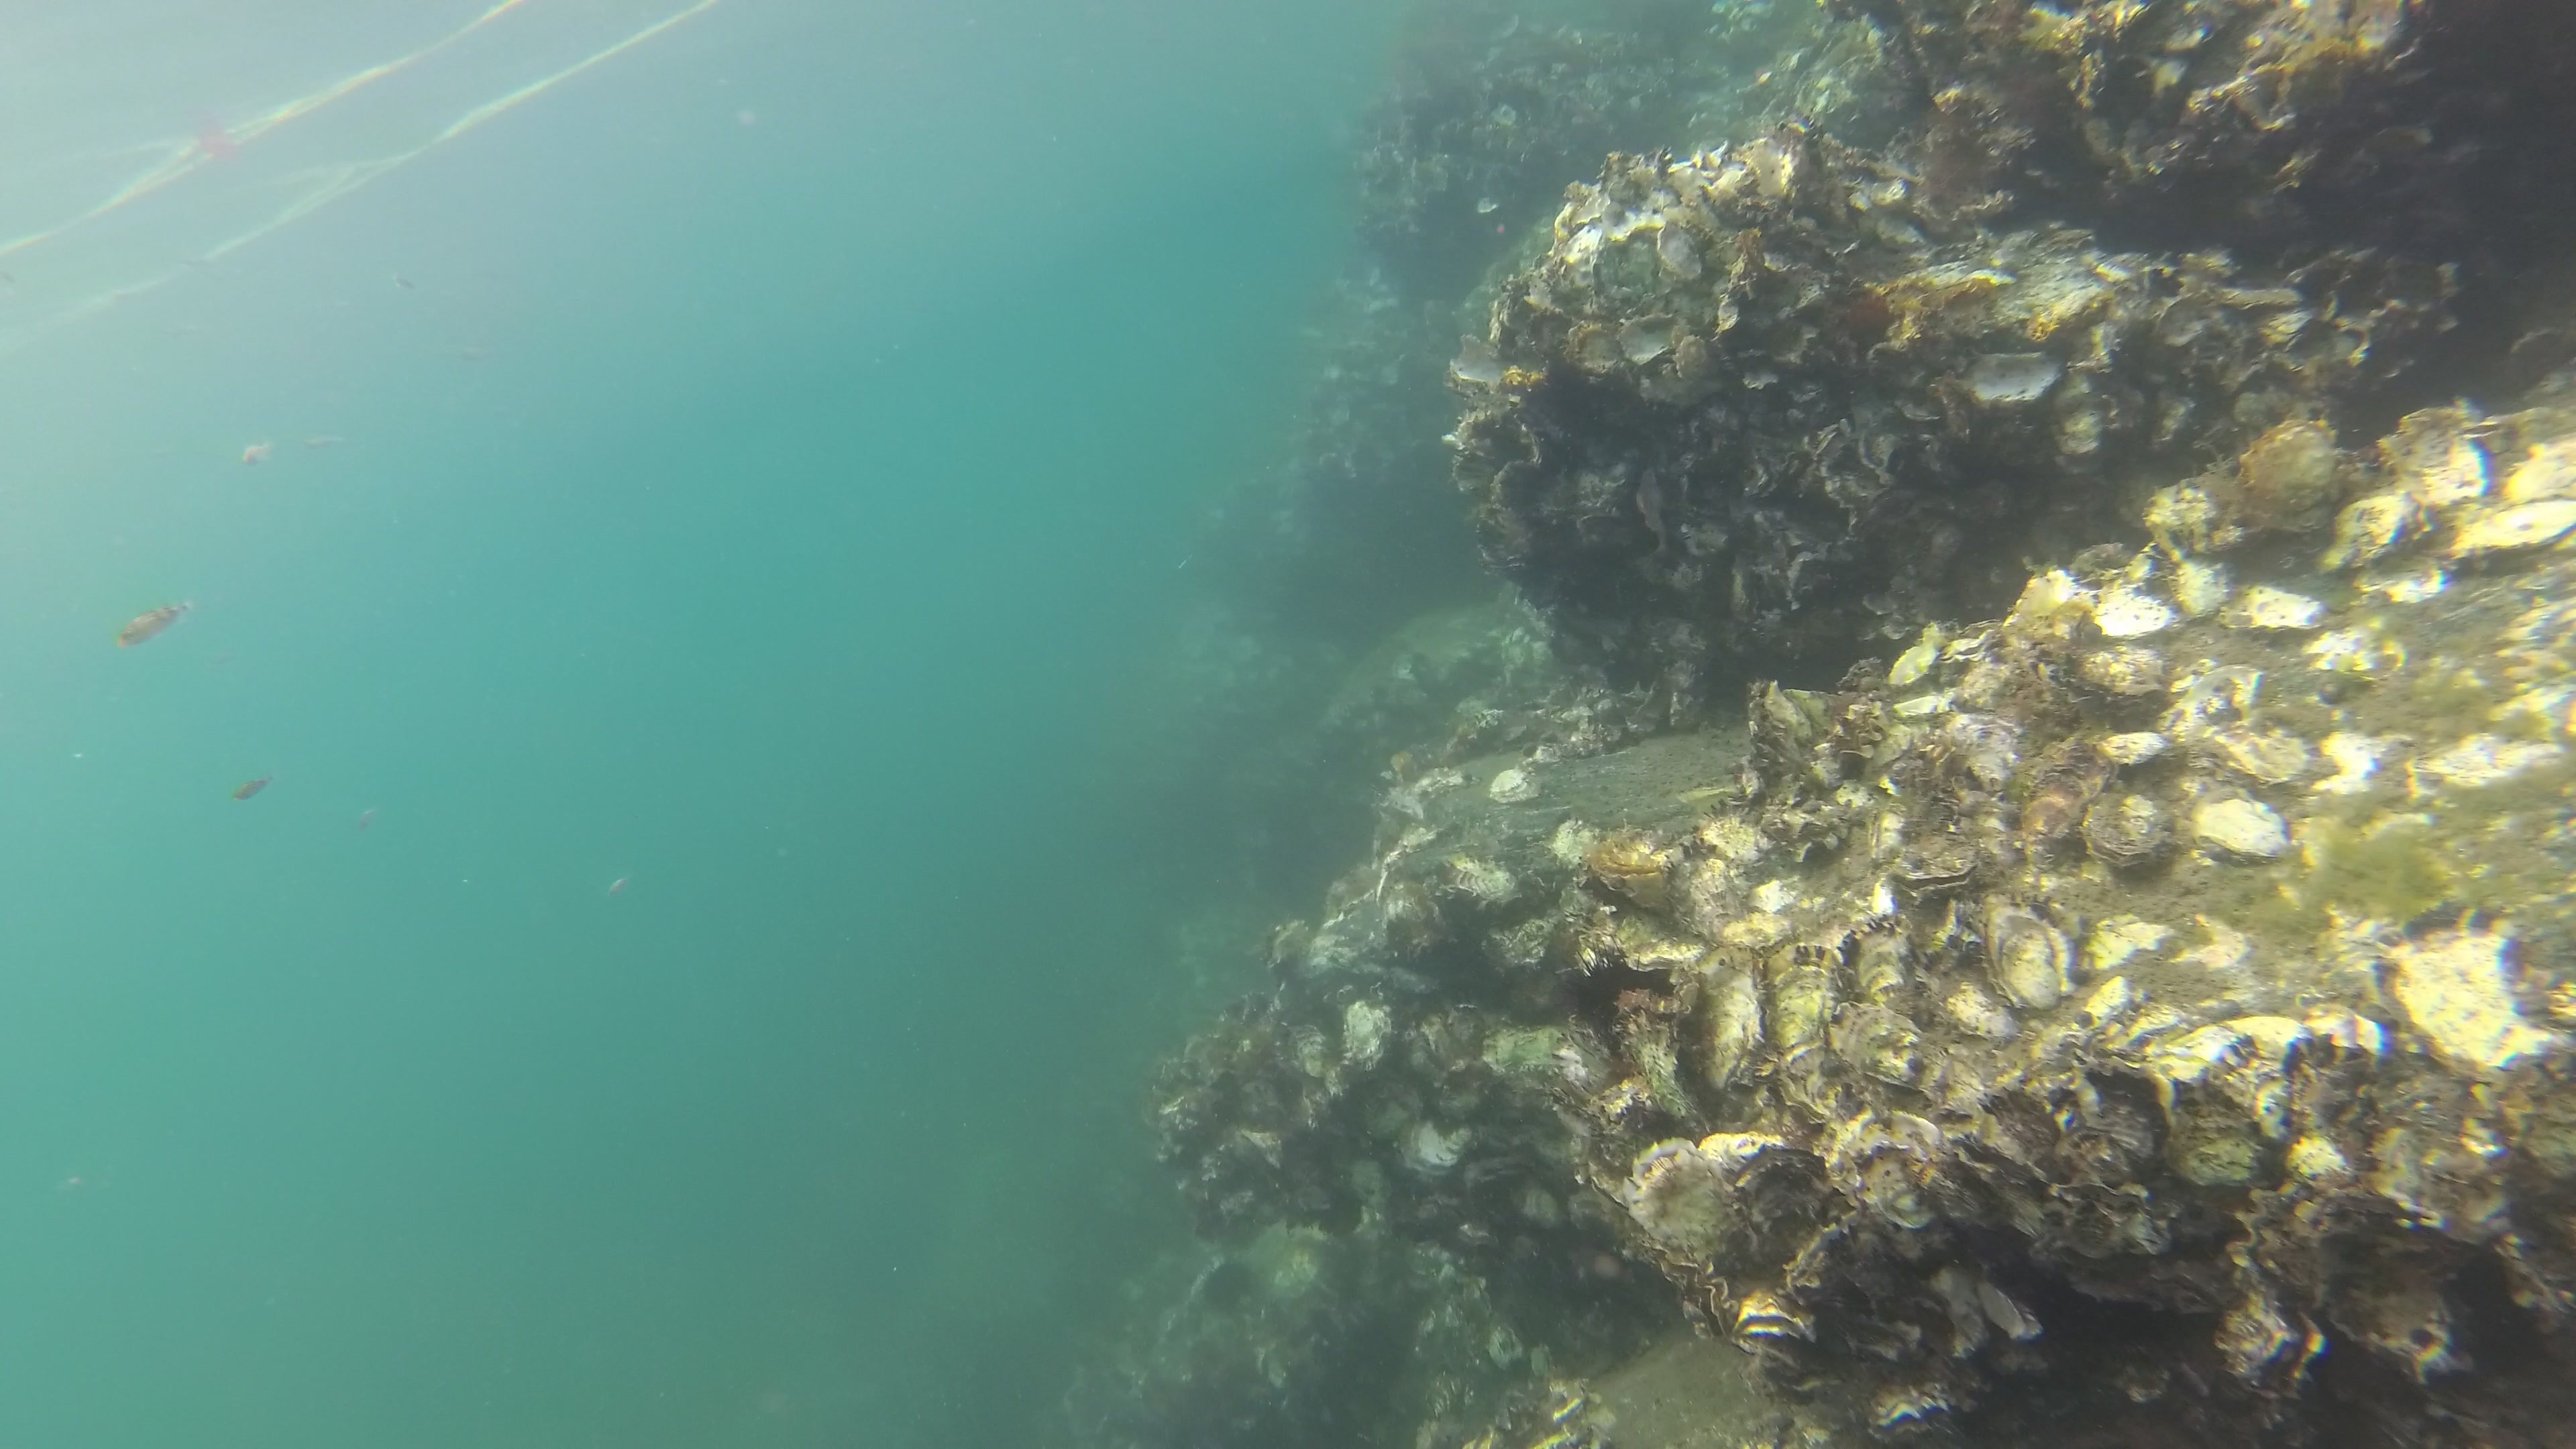echinus: (1552, 950, 1668, 1042)
